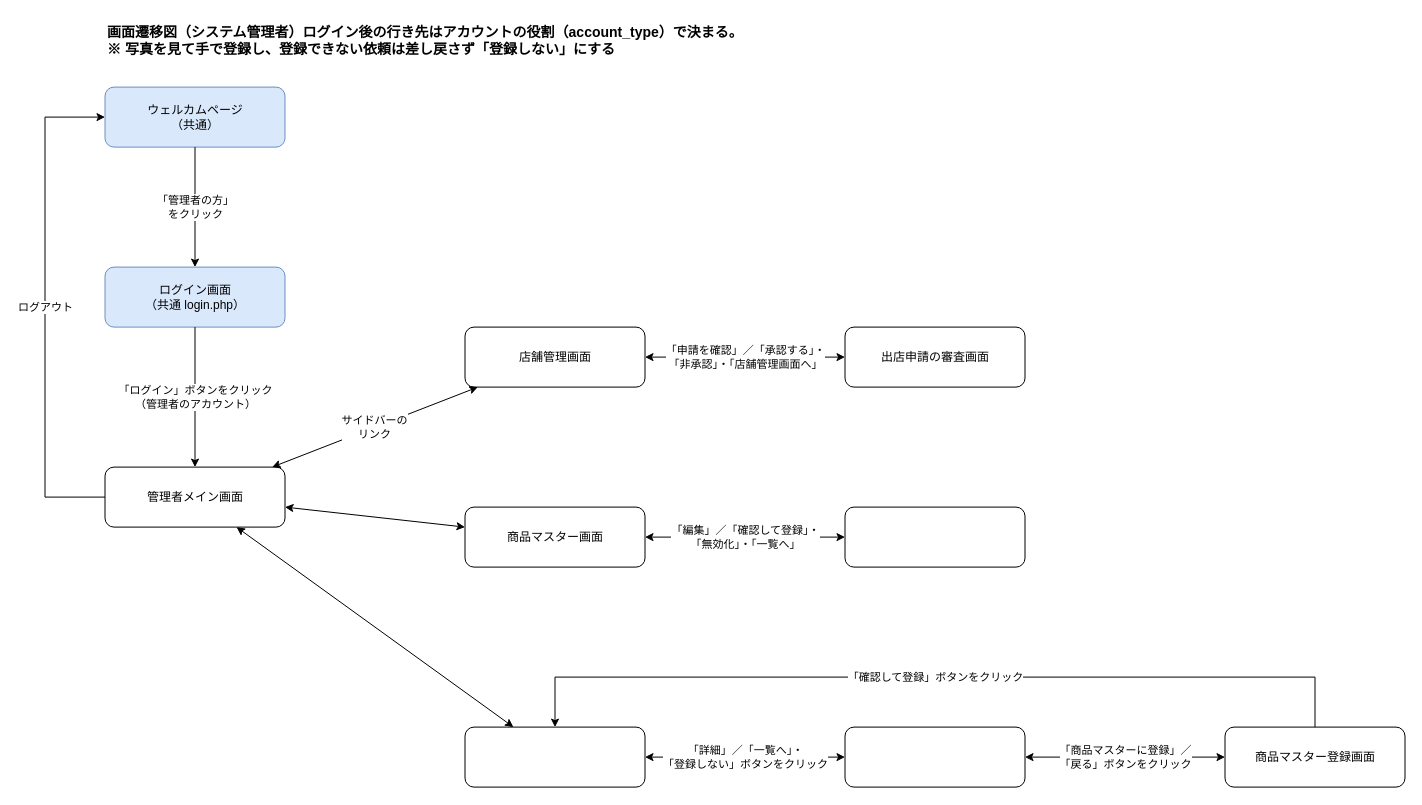
Some shapes in this 1422 by 805 pixel diagram are drawn without their labels. Here are the shapes that lost their labels. From the top down, the centre of each, then its label:
At (934,536): "商品マスターの 編集画面".
At (554,756): "商品登録依頼画面".
At (934,756): "依頼の写真の確認画面".
